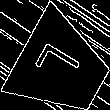L_SE: (34, 42, 90, 94)
